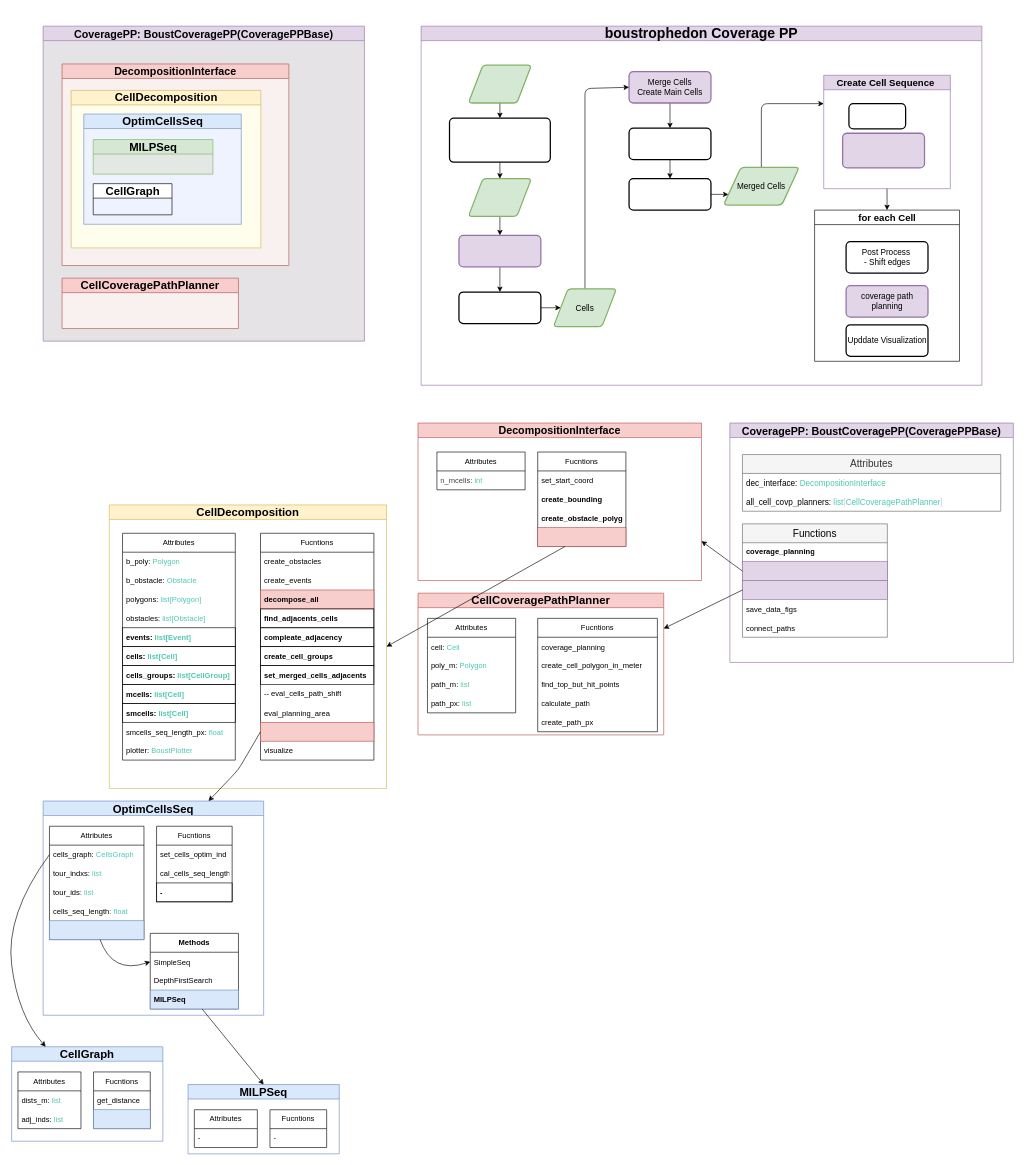
Image size: 1025x1165. Some labels were removed from this diagram. Here are the shapes that lost their labels. From the top down, the centre of each, then its label:
At [499,83]: "Zone Data".
At [877,116]: "simple order".
At [500,140]: "Create Boundary Polygons Create Obstacle Polygons".
At [669,143]: "Detect Adjacecnts for Main Cells".
At [883,150]: "MILP Optimization".
At [499,197]: "Polygons".
At [669,194]: "Process Cell Data Geometry - Boundaries".
At [499,250]: "Create cells Decomposition".
At [499,307]: "Detect Cell Adjacents".
At [581,537]: "initiate".
At [814,571]: "decompose_map".
At [814,589]: "zone_covpp".
At [317,731]: "create_sequence".
At [96,930]: "optimizer".
At [121,1119]: "dijkstra".
